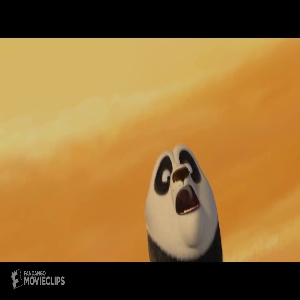po: (136, 141, 228, 260)
